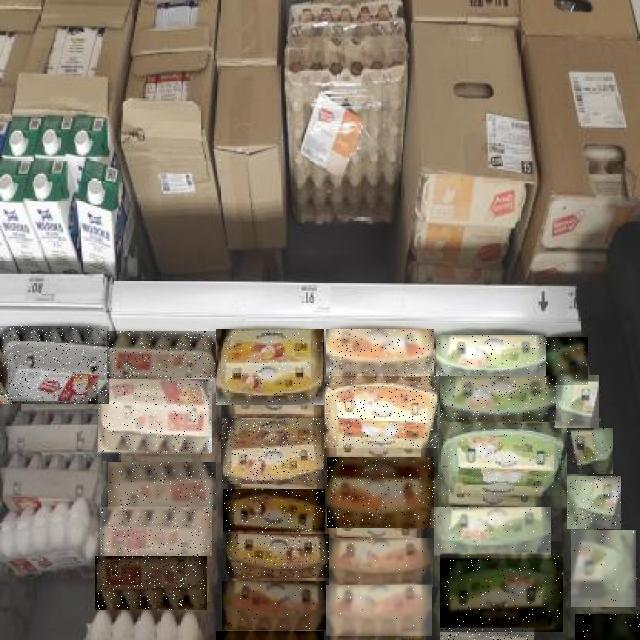Eggs: (439, 421, 565, 496), (440, 557, 563, 633), (99, 380, 213, 456), (0, 327, 109, 405), (324, 375, 439, 448), (216, 329, 324, 405), (328, 457, 436, 528), (222, 418, 324, 484), (95, 556, 207, 610), (434, 508, 551, 558), (326, 586, 432, 638), (100, 507, 212, 556), (441, 376, 557, 422), (109, 462, 217, 510), (107, 331, 216, 378), (329, 538, 433, 587), (222, 581, 326, 630), (572, 530, 638, 607), (326, 330, 434, 376), (226, 534, 329, 578), (437, 335, 547, 376), (223, 490, 325, 534), (567, 476, 621, 529), (555, 375, 599, 428), (567, 428, 613, 474), (546, 337, 588, 385), (575, 614, 640, 640), (440, 628, 534, 640), (216, 631, 324, 640)
